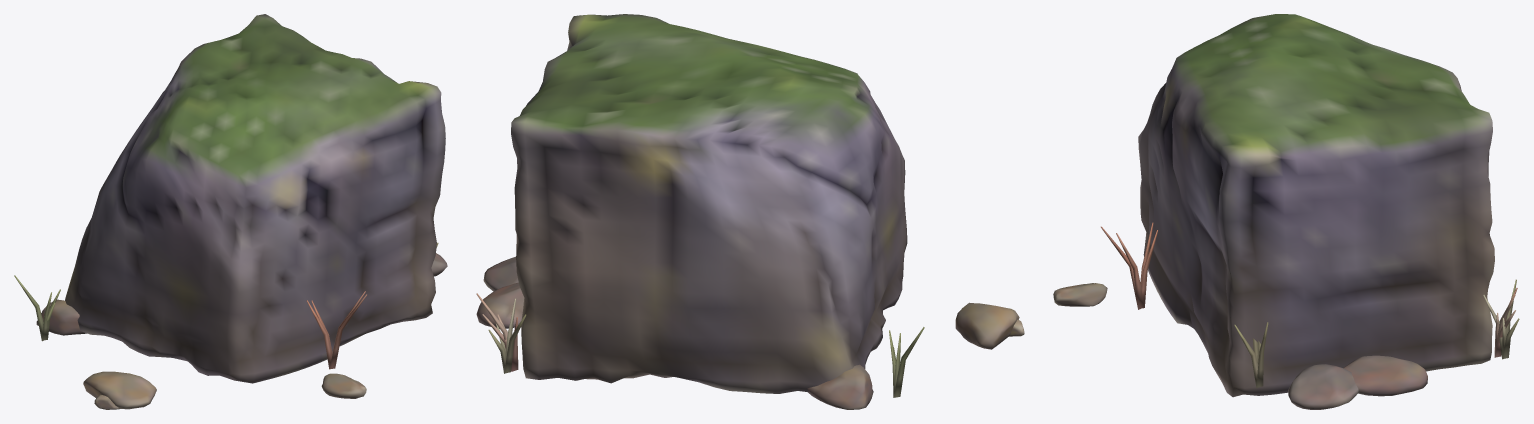
The model's file is blok_kesme.glb.
3 views of the same model, side by side, from view 1: azimuth 30°, elevation 25°; view 2: azimuth 150°, elevation 25°; view 3: azimuth 270°, elevation 25° (orthographic). The views are drawn at different scales.
Parts seen in each view (by area): view 1: blok_kesme_LOD0; view 2: blok_kesme_LOD0; view 3: blok_kesme_LOD0.
Part boxes in pixels (x1,y1,x2,y2): blok_kesme_LOD0: (14,14,447,409); blok_kesme_LOD0: (476,14,1024,409); blok_kesme_LOD0: (1053,14,1519,409).
Size of what is drawn, in the model's own units: 2.06 by 1.16 by 1.84.
